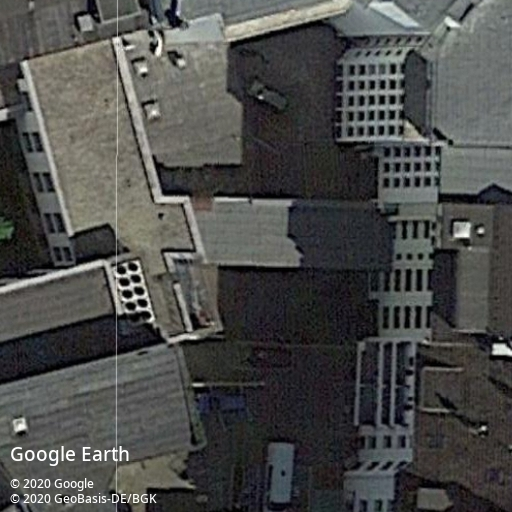Chiller: (112, 258, 157, 327)
